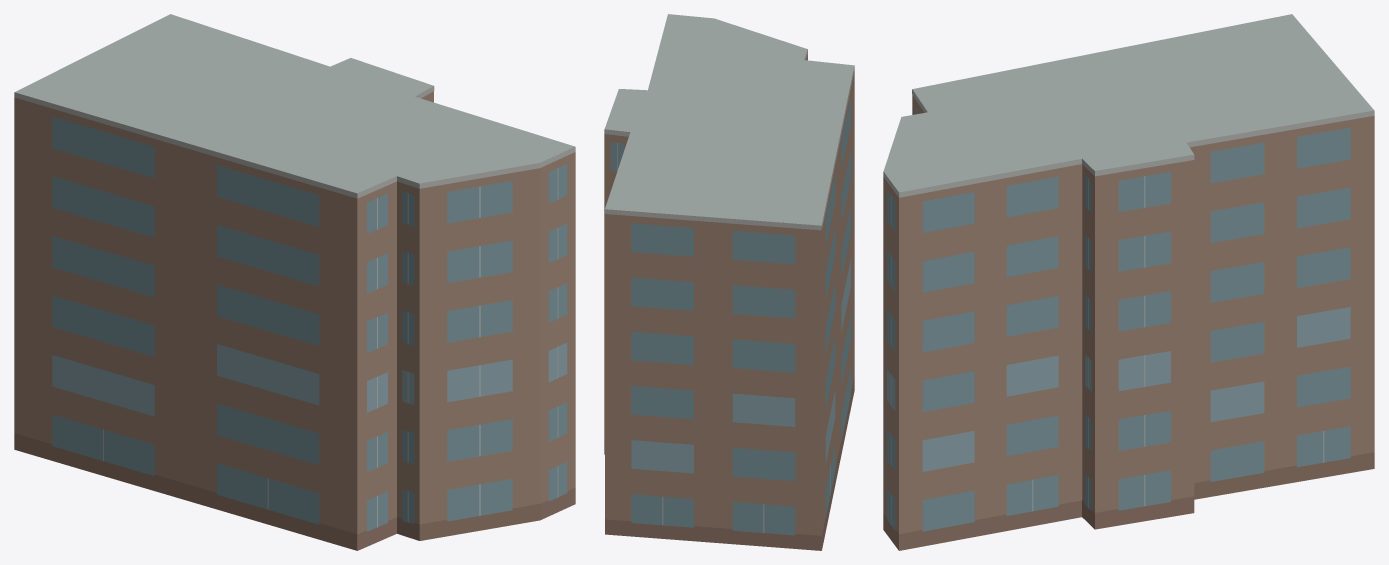
Rendered from survey-upis-33018225.glb.
3 views of the same model, side by side, from view 1: azimuth 30°, elevation 25°; view 2: azimuth 150°, elevation 25°; view 3: azimuth 270°, elevation 25° (orthographic). The views are drawn at different scales.
Visible parts, largest first — view 1: survey-upis-33018225.tmp; view 2: survey-upis-33018225.tmp; view 3: survey-upis-33018225.tmp.
Part boxes in pixels (bbox=[...]): survey-upis-33018225.tmp: bbox=[14, 14, 575, 550]; survey-upis-33018225.tmp: bbox=[604, 14, 854, 550]; survey-upis-33018225.tmp: bbox=[883, 14, 1374, 550].
Bounding box in the file's own units: 17.97 × 16.8 × 20.88.
